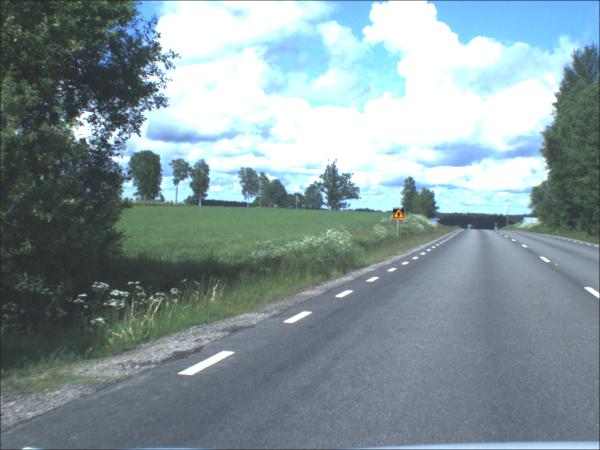WARNING: (393, 209, 405, 221)
